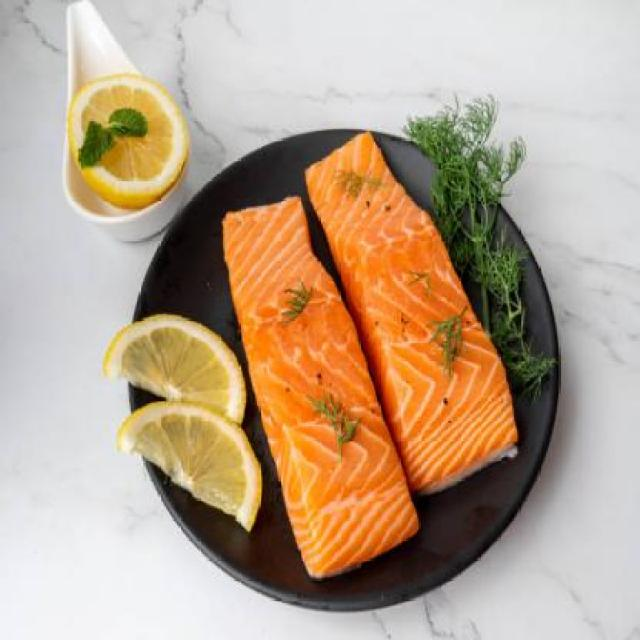salmon: (298, 114, 532, 497), (210, 180, 422, 578)
